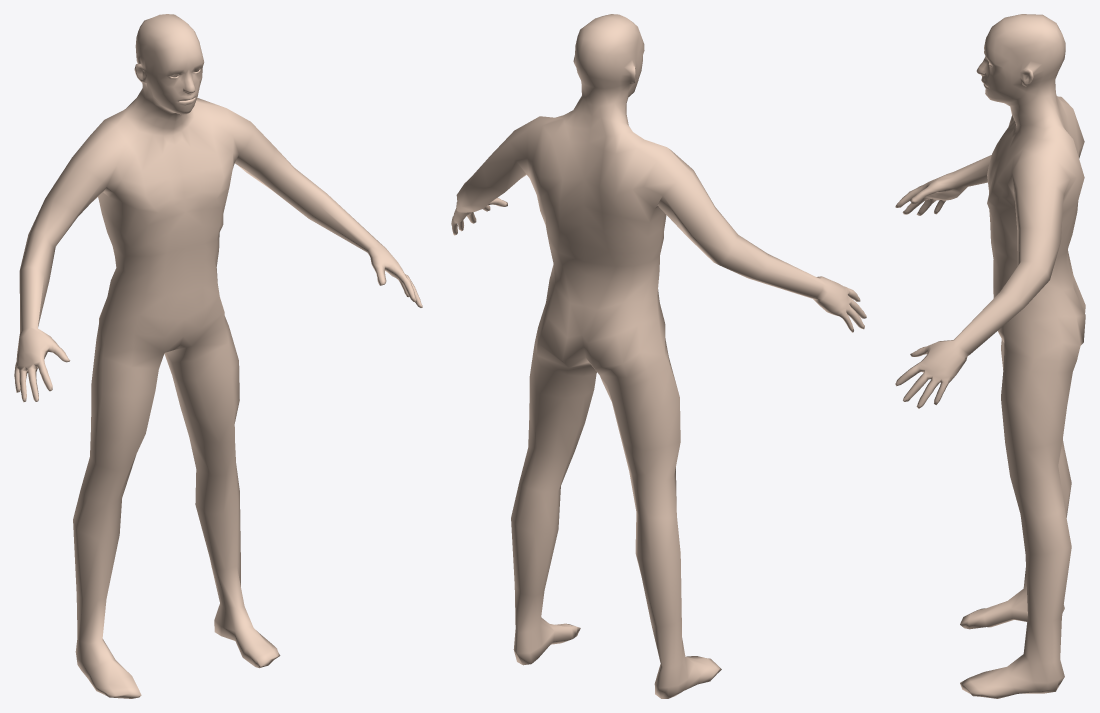
The model's file is pilgrim.001.fbx.
3 renders of one model, left to right at view 1: azimuth 30°, elevation 25°; view 2: azimuth 150°, elevation 25°; view 3: azimuth 270°, elevation 25°, orthographic.
Visible parts, largest first — view 1: pilgrim:male1591; view 2: pilgrim:male1591; view 3: pilgrim:male1591.
Boxes of the visible parts, x1,y1,x2,y2 form: pilgrim:male1591: (14, 14, 422, 698); pilgrim:male1591: (451, 14, 866, 698); pilgrim:male1591: (895, 14, 1085, 698).
Bounding box in the file's own units: 1.13 × 1.75 × 0.4709.
